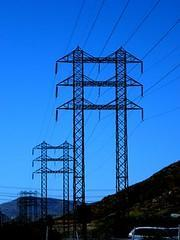power_tower: (52, 43, 144, 205)
